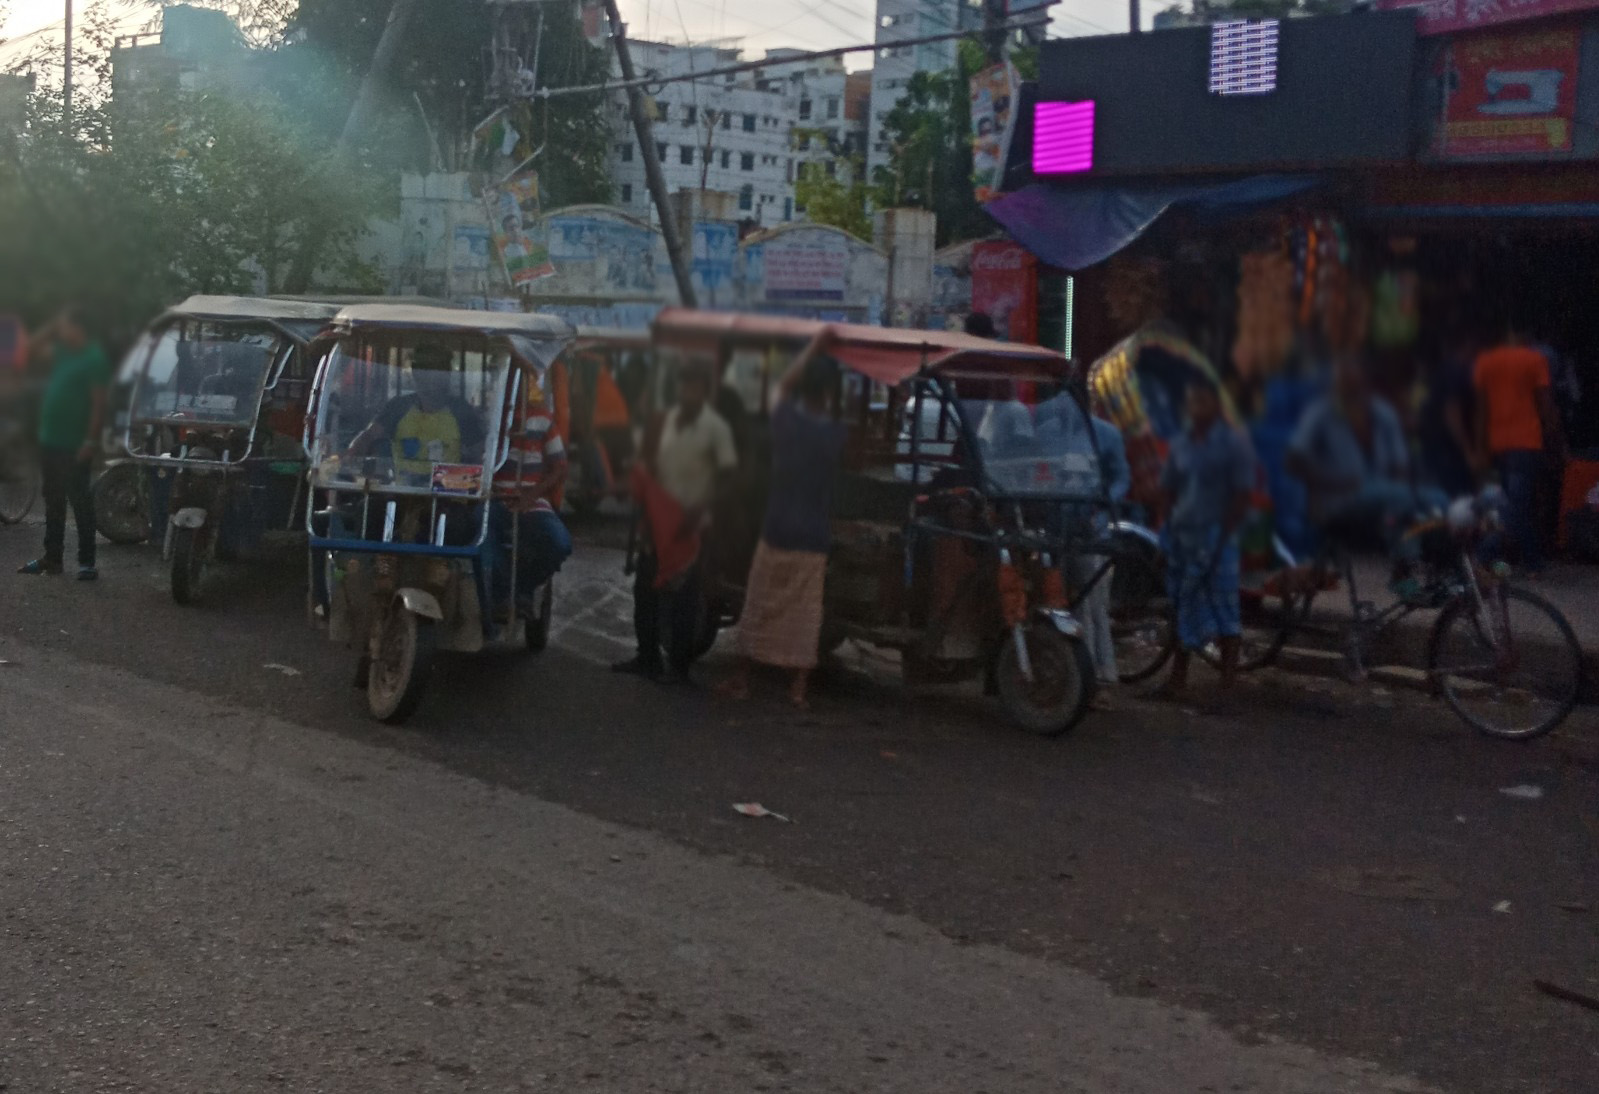easybike: (627, 288, 1128, 749), (284, 280, 581, 735), (94, 269, 341, 611)
rickshaw: (1077, 318, 1590, 750)
